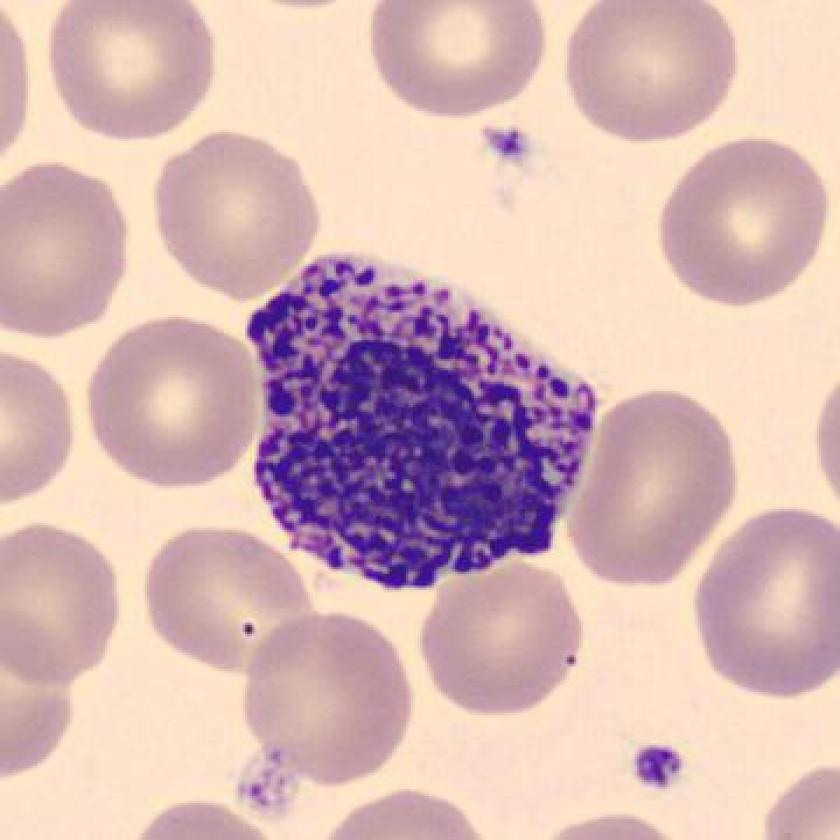basophil: (242, 253, 606, 598)
